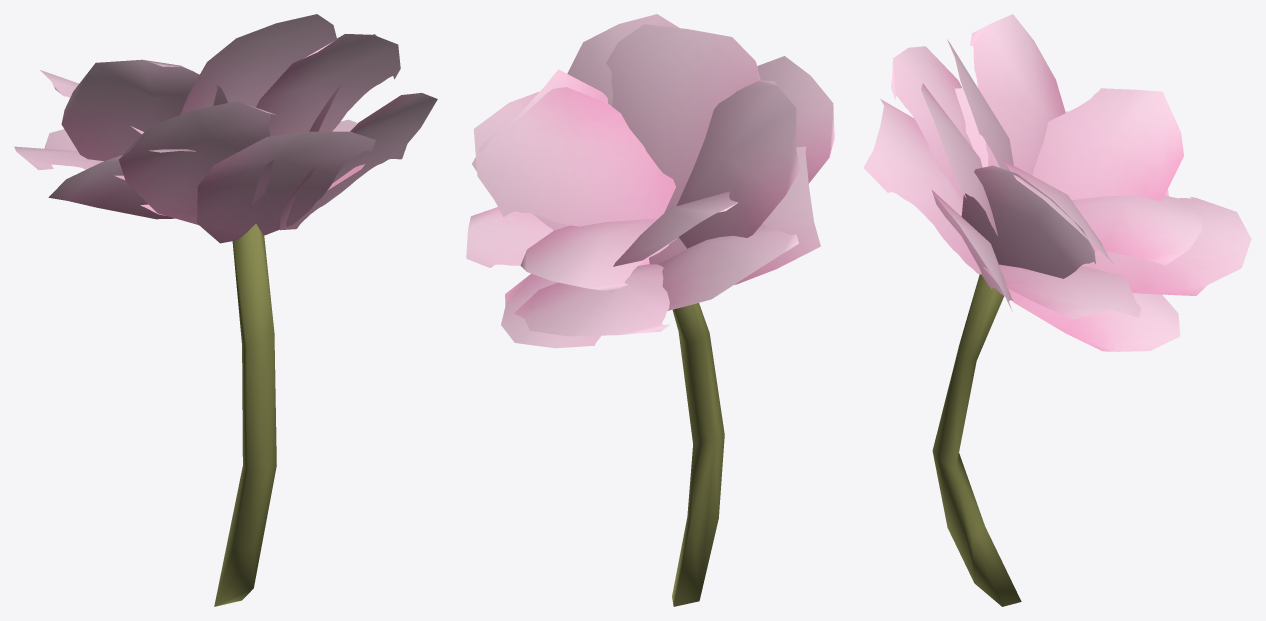
File: orangeMediumSingle.fbx
3 views of the same model, side by side, from view 1: azimuth 30°, elevation 25°; view 2: azimuth 150°, elevation 25°; view 3: azimuth 270°, elevation 25° (orthographic). The views are drawn at different scales.
Visible parts, largest first — view 1: Cylinder.002, Cylinder.000; view 2: Cylinder.002, Cylinder.000; view 3: Cylinder.002, Cylinder.000.
Boxes of the visible parts, x1=… form: Cylinder.002: x1=14, y1=14, x2=437, y2=243; Cylinder.000: x1=214, y1=224, x2=276, y2=606; Cylinder.002: x1=466, y1=14, x2=834, y2=348; Cylinder.000: x1=672, y1=303, x2=724, y2=606; Cylinder.002: x1=863, y1=14, x2=1251, y2=351; Cylinder.000: x1=932, y1=274, x2=1021, y2=606.
Size of the model in its own units: 46.35 by 72.71 by 46.21.
